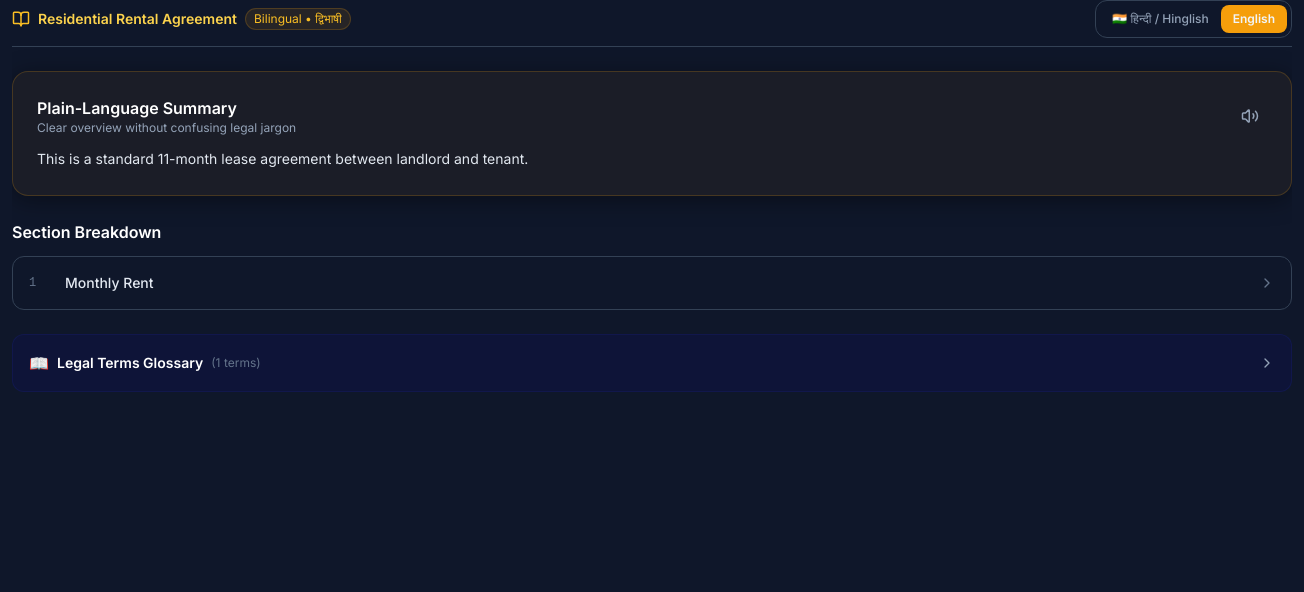
Scenario: DocumentViewer › renders section breakdowns and allows expanding
The image size is (1304, 592).
Expected: the text "Monthly Rent" is shown, x1=65 y1=273 x2=154 y2=293
Click section header to expand
Click the button "1 Monthly Rent" at [109, 282], box x1=13 y1=257 x2=1291 y2=309
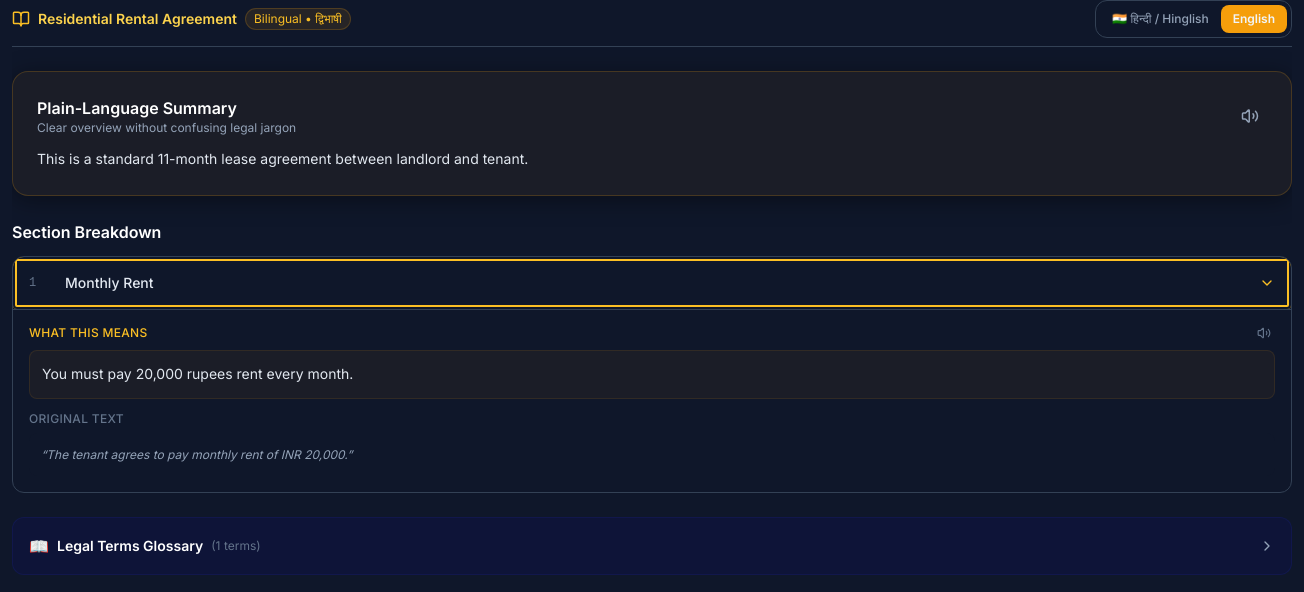
Now the text "You must pay 20,000 rupees rent every month." is shown, box x1=29 y1=350 x2=1275 y2=399
